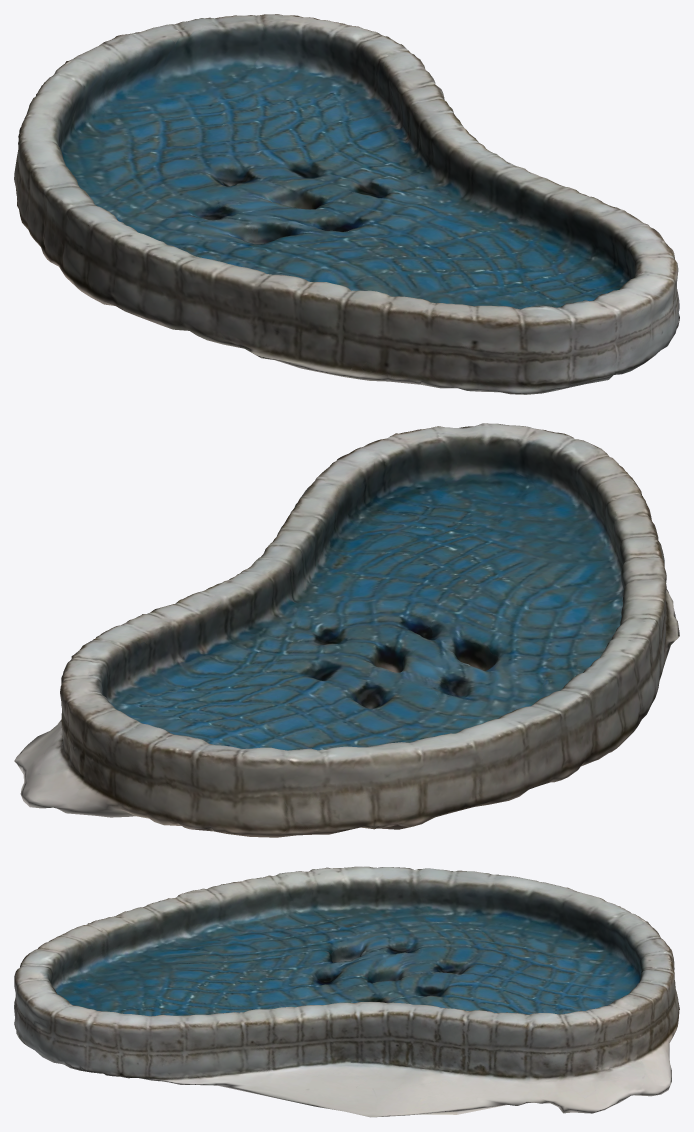
Rendered from pool.glb.
3 views of the same model, one above another, from view 1: azimuth 30°, elevation 25°; view 2: azimuth 150°, elevation 25°; view 3: azimuth 270°, elevation 25° (orthographic). The views are drawn at different scales.
Bounding box in the file's own units: 0.1086 × 0.0214 × 0.1627.
1 material, 1 textured.
